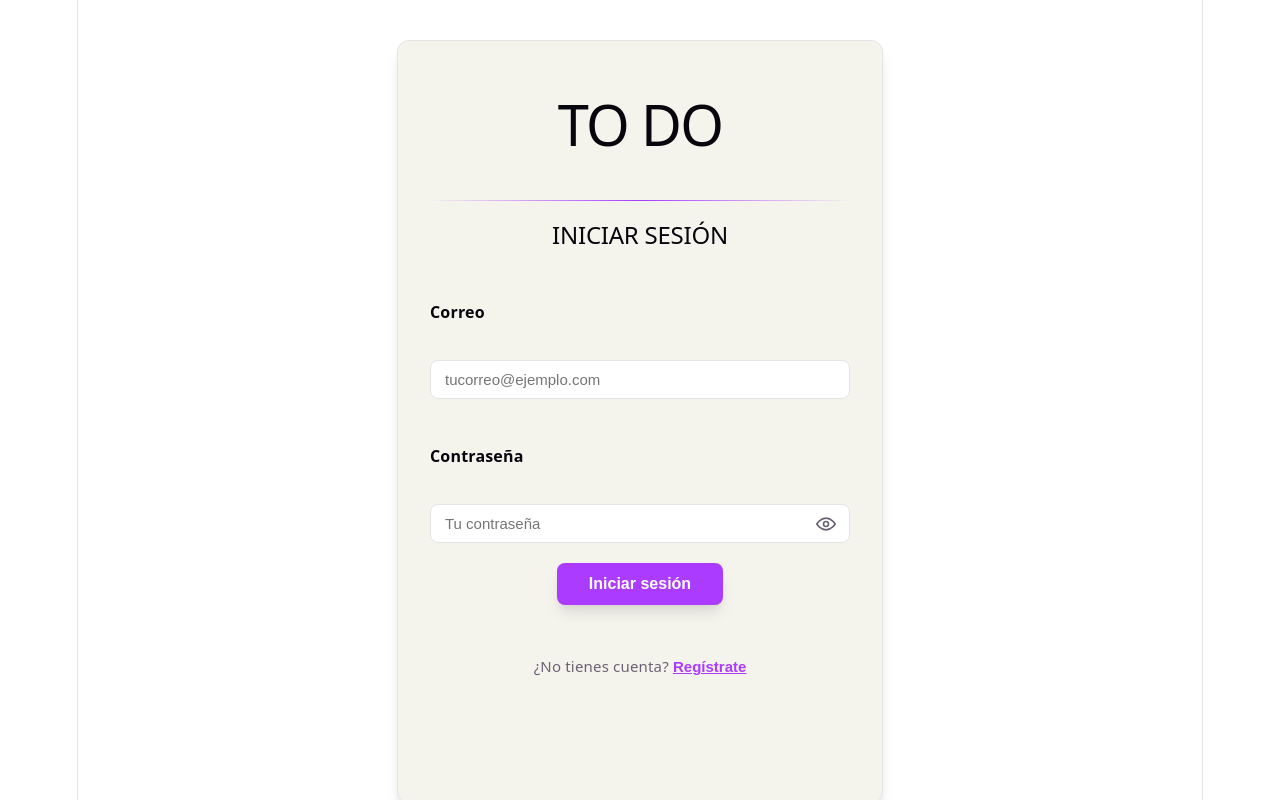
App autenticada › muestra el error cuando las credenciales son inválidas
Type "ana@example.com" into the field labelled "Correo" at (640, 380), box [430, 360, 850, 399]
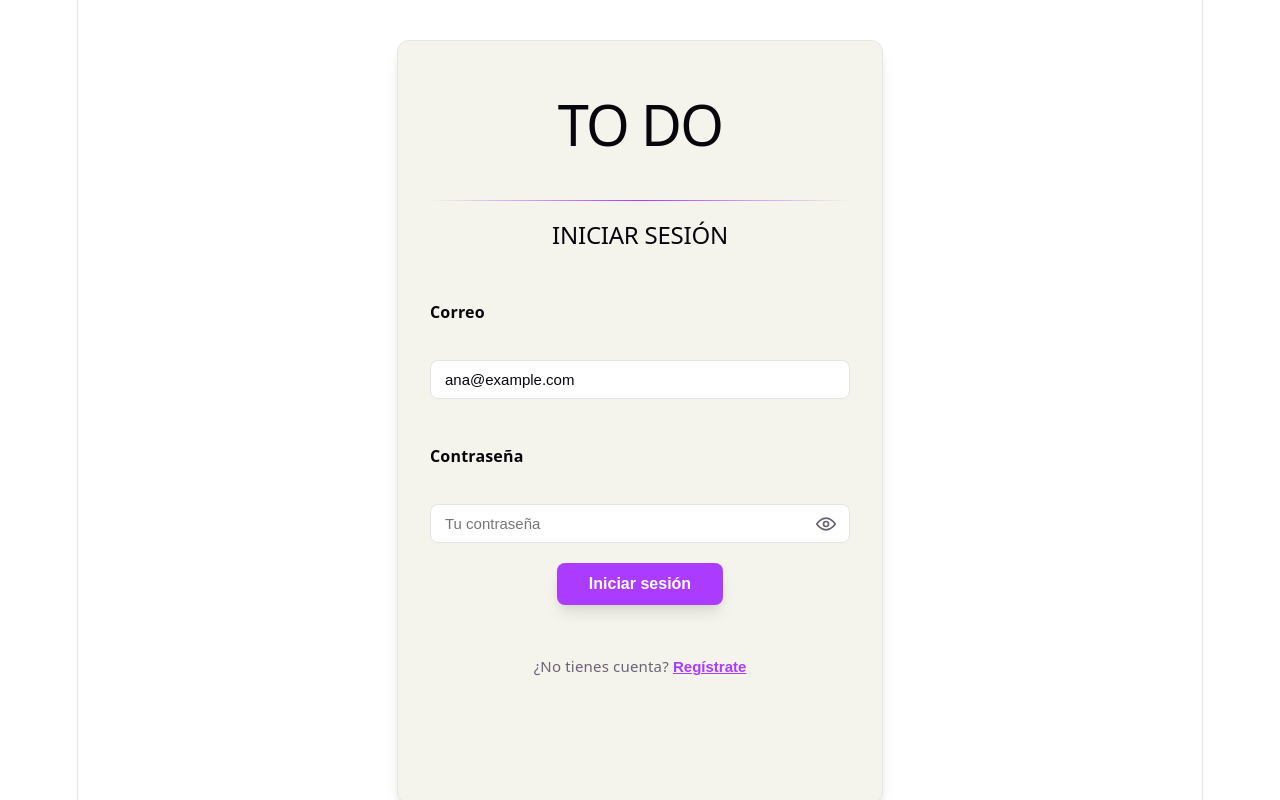
Type "ContrasenaDemo123!" into the password field labelled "Contraseña" at (640, 524), box [430, 504, 850, 543]
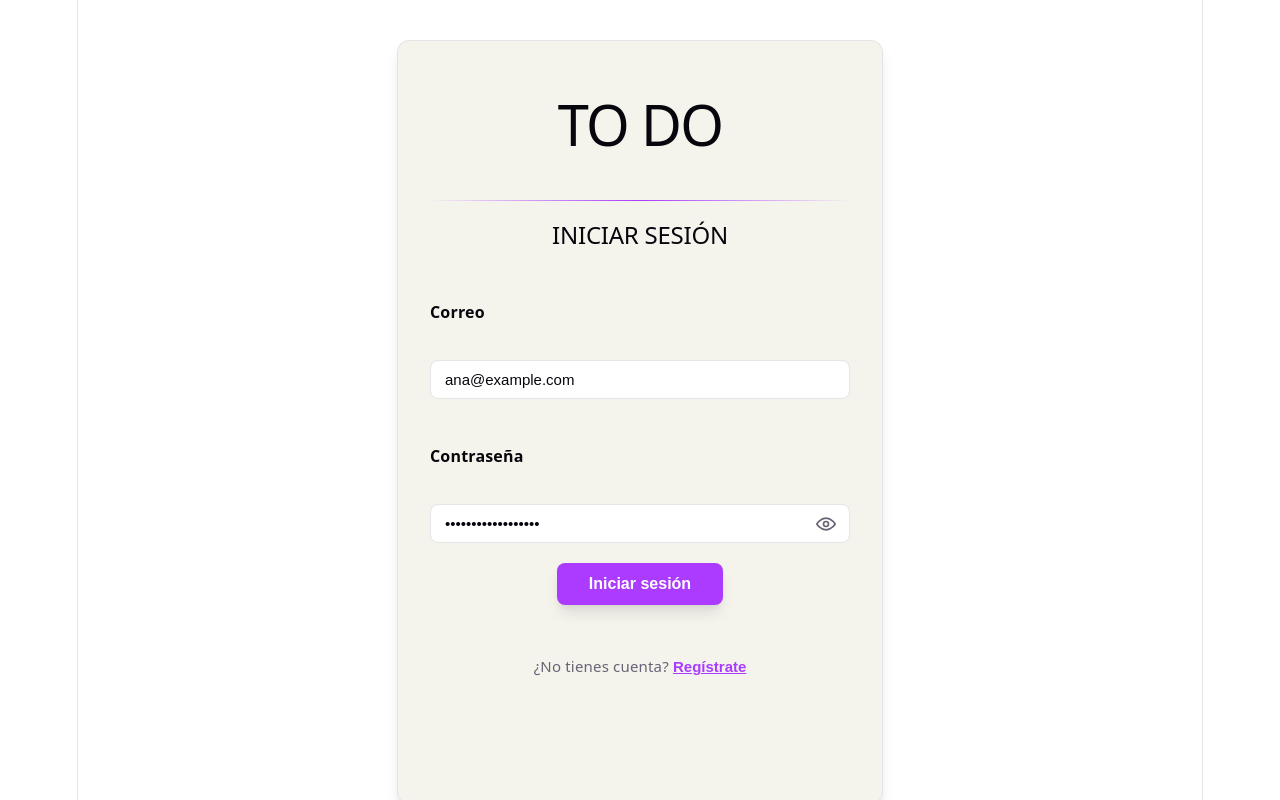
Click the button "Iniciar sesión" at (640, 584), box [557, 563, 723, 605]
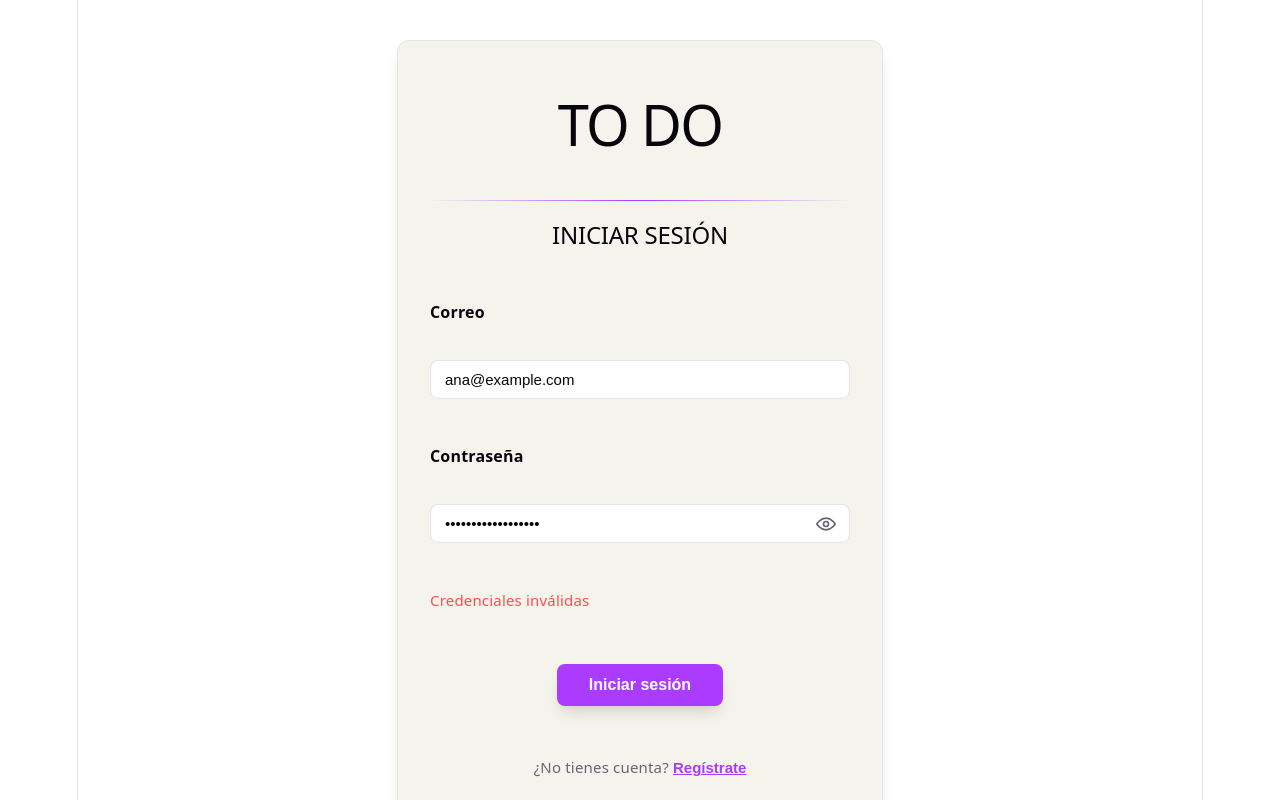
Check: the message reads "Credenciales inválidas", box [430, 590, 589, 610]
